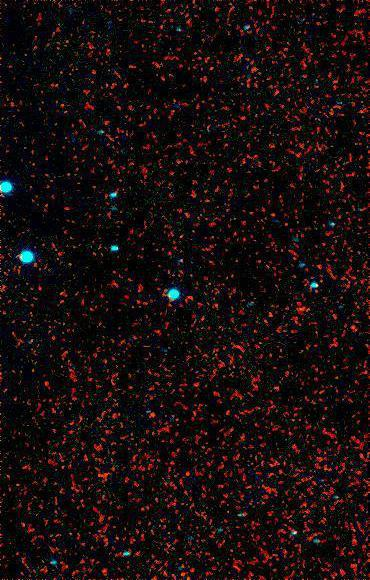star: (138, 398, 168, 428)
